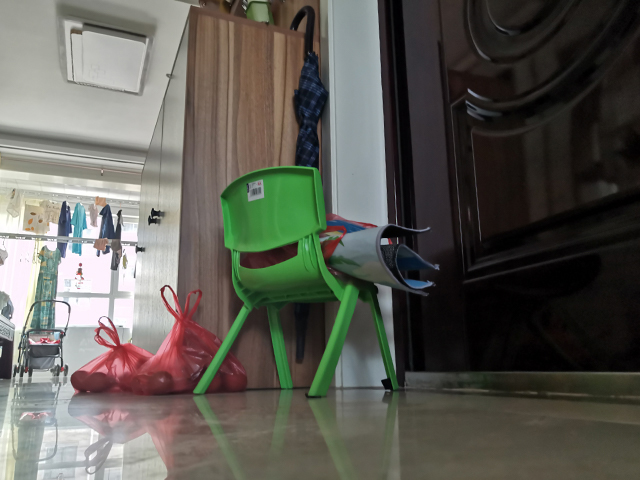cabinet: (129, 1, 326, 392)
stool: (191, 162, 399, 397)
